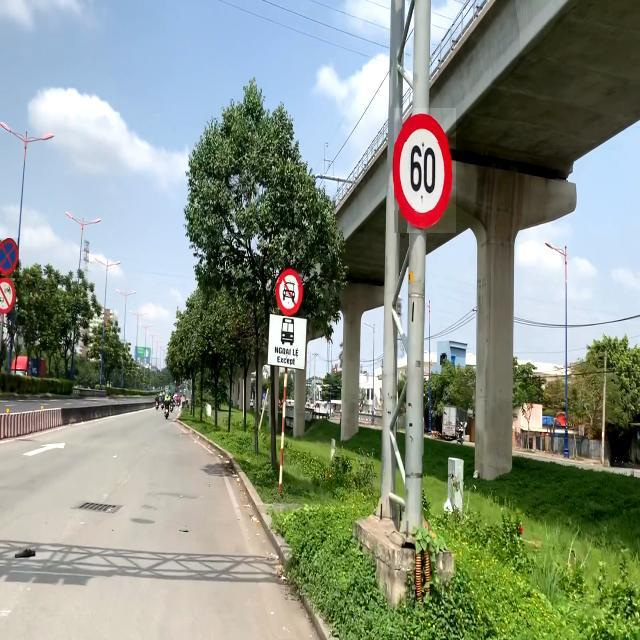P-103a: (276, 266, 302, 316)
P-127: (394, 108, 456, 233)
P-130: (0, 238, 19, 278)
